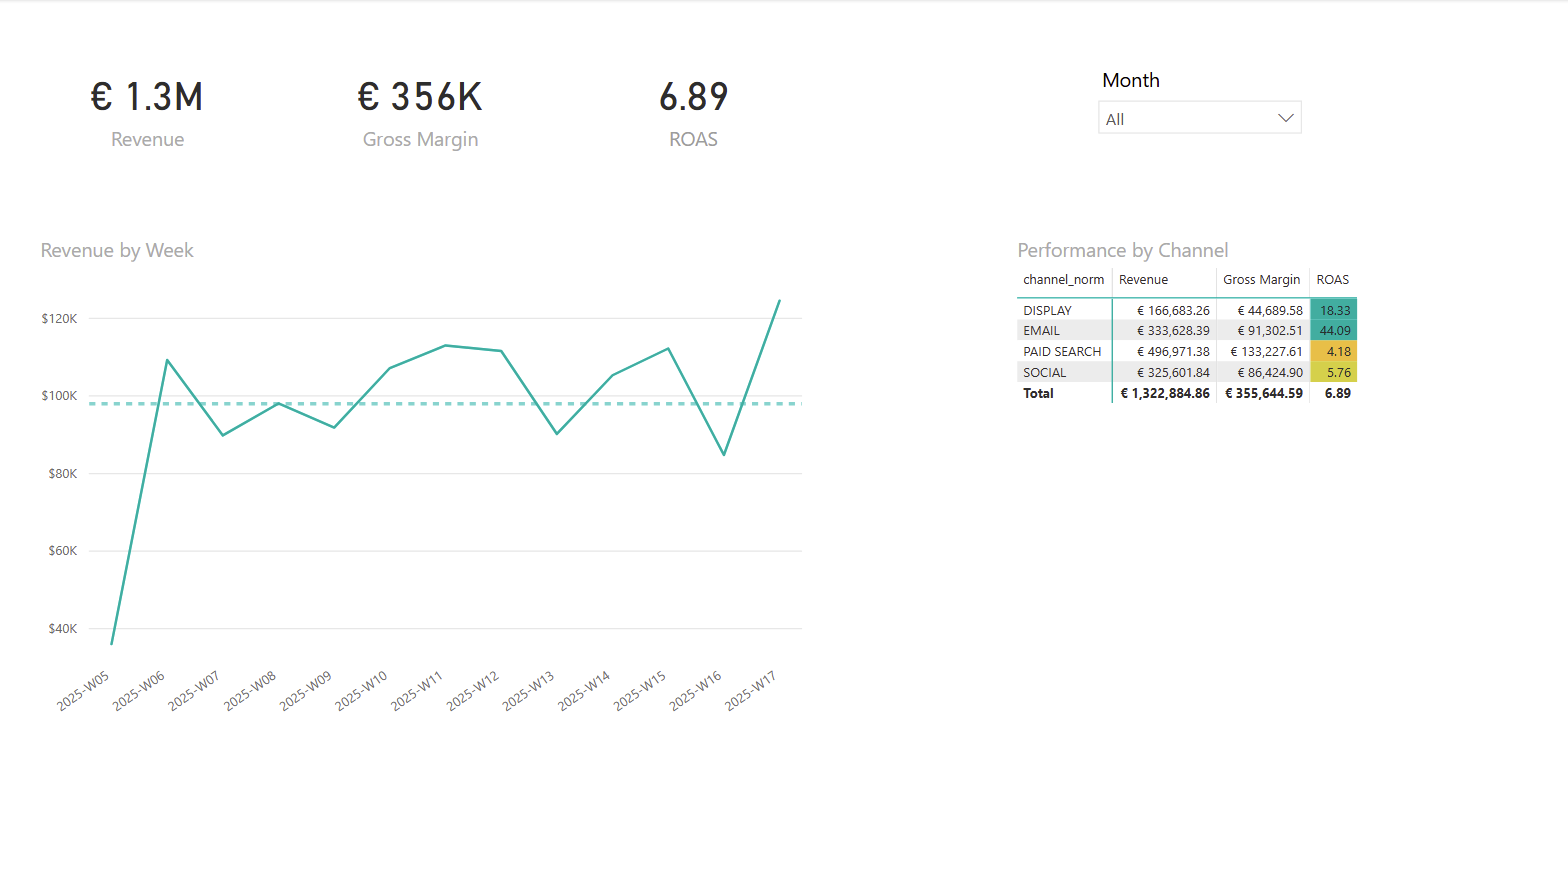

The page's visual inventory and layout, read from the dashboard file:
{"tool":"powerbi","page":{"name":"Dashboard","canvas":[1280,720],"ordinal":0},"visuals":[{"type":"card","fields":{"Values":["_Measures.Revenue"]},"box":[9.8,0,222.4,174.4],"z":0},{"type":"card","fields":{"Values":["_Measures.Gross Margin"]},"box":[232.2,0,222.4,174.4],"z":1000},{"type":"card","fields":{"Values":["_Measures.ROAS"]},"box":[454.6,0,222.4,174.4],"z":2000},{"type":"lineChart","title":"Revenue by Week","fields":{"Y":["_Measures.Revenue (no last week)"],"Category":["Date.Week"]},"box":[28.5,193.1,630.6,400.1],"z":3000},{"type":"pivotTable","title":"Performance by Channel","fields":{"Rows":["DimCampaign.channel_norm"],"Values":["_Measures.Revenue","_Measures.Gross Margin","_Measures.ROAS"]},"box":[824.5,193.1,307.2,163],"z":4000},{"type":"slicer","fields":{"Values":["Date.Month"]},"box":[885.7,49.7,185.8,75],"z":5000}]}

Visuals, with their boxes in screenshot pixels (x1, y1, x2, y2), scaled from the page's 1280x720 canvas onto the 1568x882 screenshot:
card - _Measures.Revenue: 12, 0, 284, 214
card - _Measures.Gross Margin: 284, 0, 557, 214
card - _Measures.ROAS: 557, 0, 829, 214
"Revenue by Week" lineChart: 35, 237, 807, 727
"Performance by Channel" pivotTable: 1010, 237, 1386, 436
slicer - Date.Month: 1085, 61, 1313, 153
